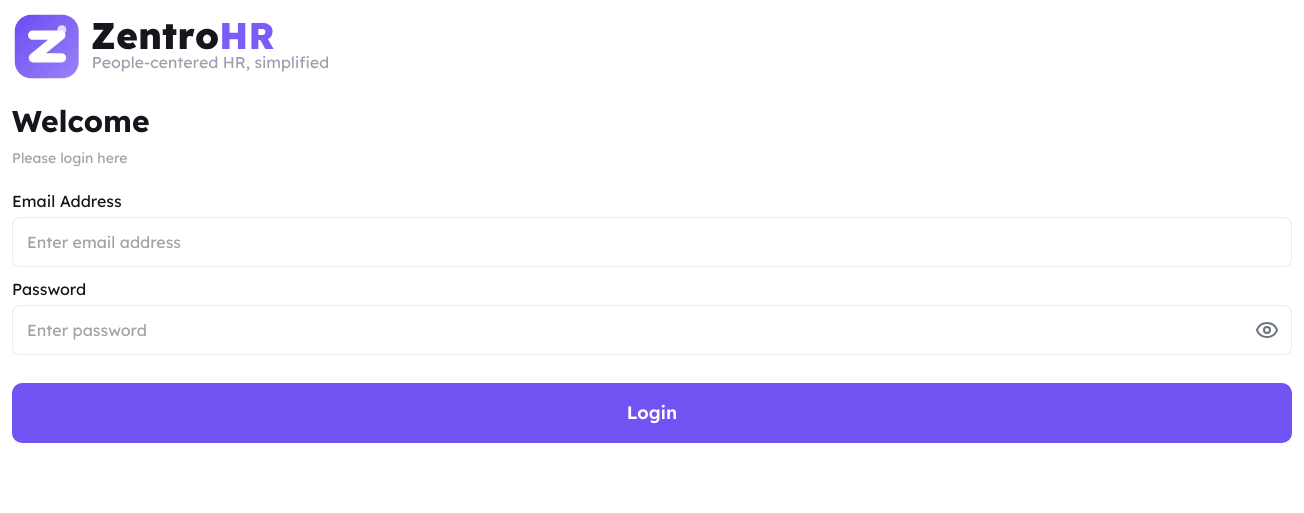
Scenario: LoginPanel › login step › shows validation errors when submitting empty fields
Click the button "Login": [652, 413] box [12,383,1292,443]
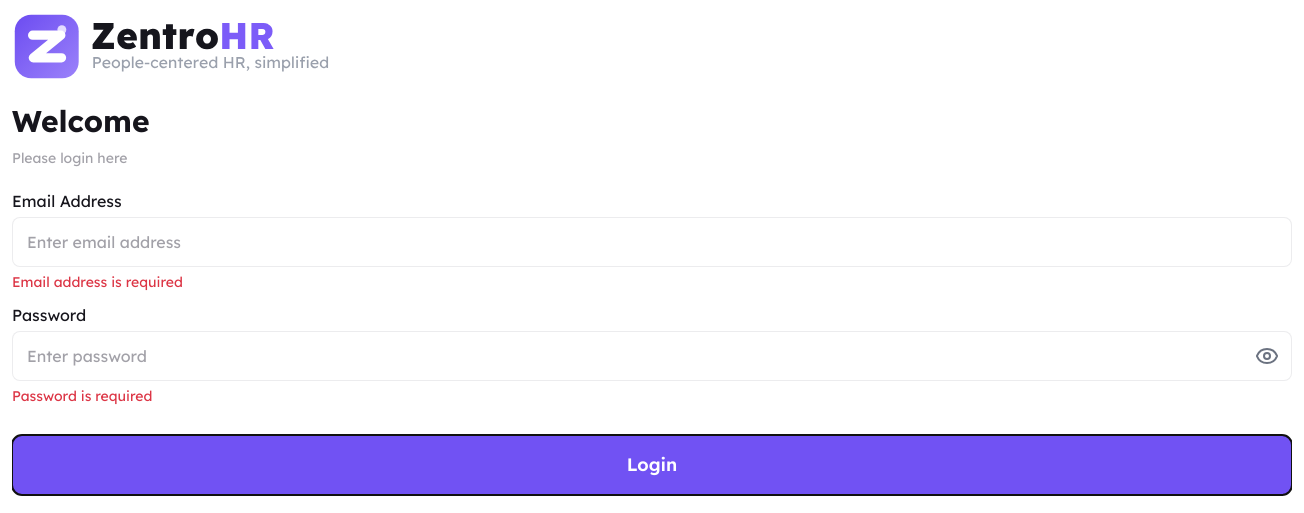
Expected: the text "Email address is required" is shown, [12,273,183,291]
Expected: the text "Password is required" is shown, [12,387,152,405]
